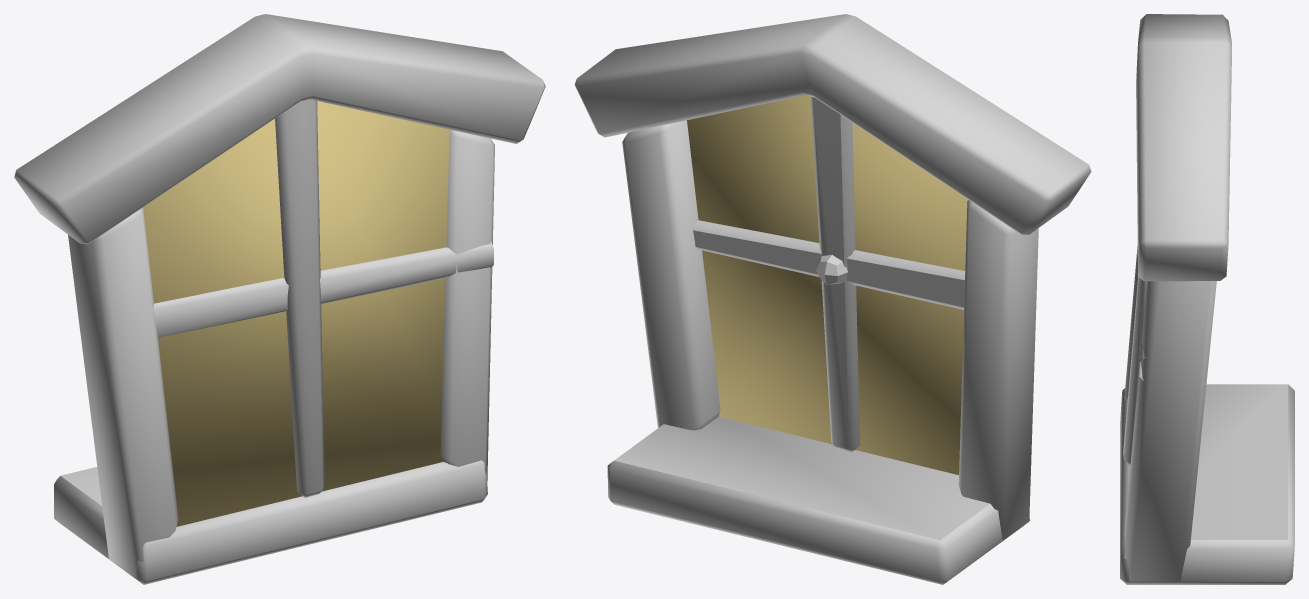
The model's file is Window_A.fbx.
The picture shows the model from 3 angles, left to right: view 1: azimuth 30°, elevation 25°; view 2: azimuth 150°, elevation 25°; view 3: azimuth 270°, elevation 25°; orthographic projection. The views are drawn at different scales.
Visible parts, largest first — view 1: house 2.001; view 2: house 2.001; view 3: house 2.001.
Part boxes in pixels (x1,y1,x2,y2): house 2.001: (14,14,545,584); house 2.001: (574,14,1091,584); house 2.001: (1120,14,1294,584).
Size of the model in its own units: 337 by 321 by 109.
